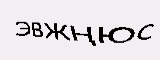В: (29, 21, 44, 38)
Ж: (42, 22, 71, 41)
С: (136, 22, 154, 42)
Э: (15, 20, 30, 38)
Ю: (97, 24, 134, 45)
Ң: (69, 25, 95, 46)
